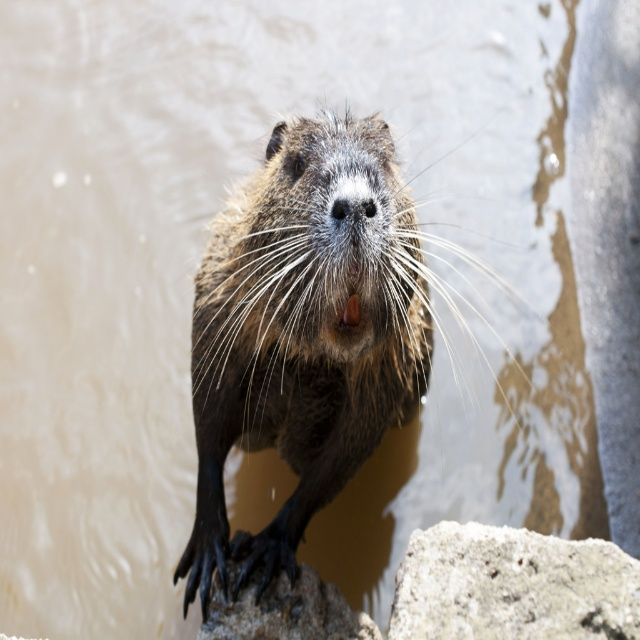Otter: (172, 93, 549, 620)
